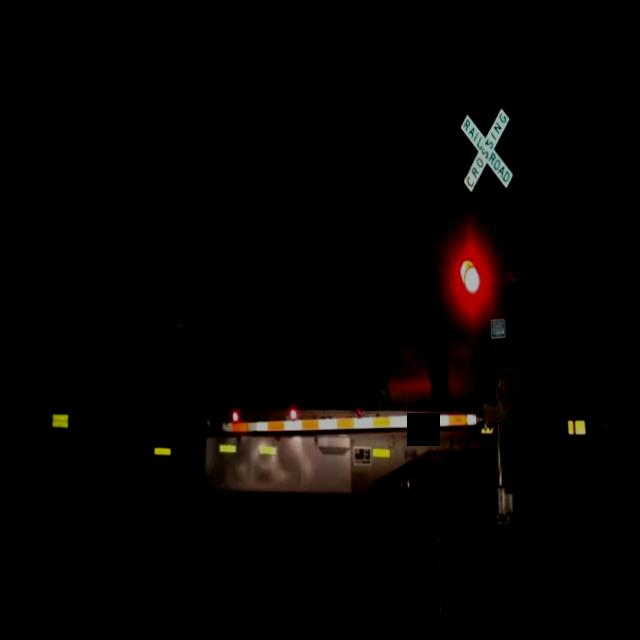tank: (31, 392, 512, 523)
